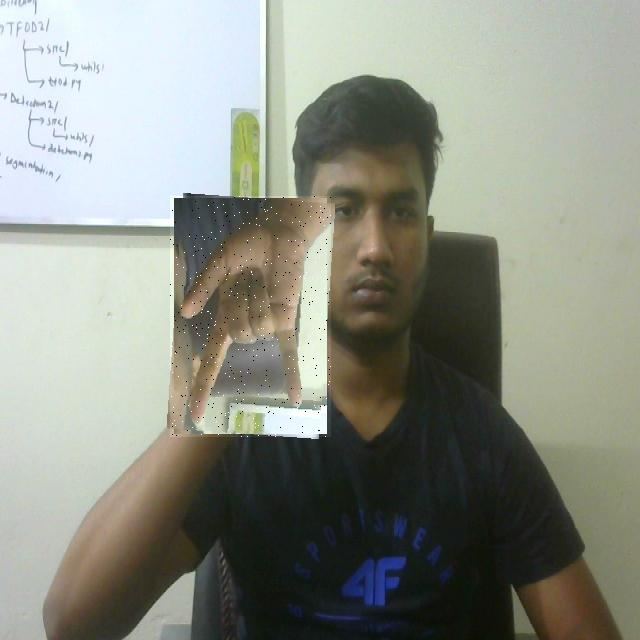IloveYou: (170, 196, 331, 437)
